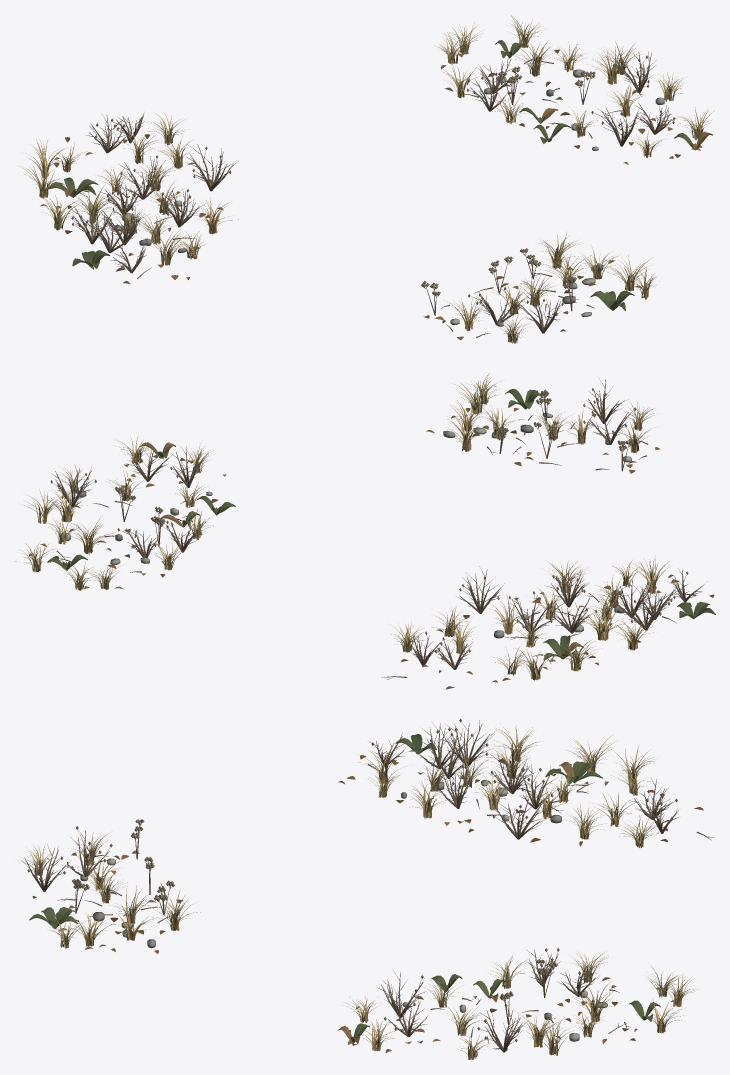
Rendered from planting.glb.
3 views of the same model, one above another, from view 1: azimuth 30°, elevation 25°; view 2: azimuth 150°, elevation 25°; view 3: azimuth 270°, elevation 25° (orthographic). The views are drawn at different scales.
Visible parts, largest first — view 1: Planting_Grass_Amber, Planting_Twigs, Planting_Grass_Umber, Planting_Leaf_Olive, Planting_Leaf_Tobacco, Planting_Seedheads, Planting_Stones; view 2: Planting_Grass_Amber, Planting_Twigs, Planting_Grass_Umber, Planting_Leaf_Olive, Planting_Leaf_Tobacco, Planting_Seedheads, Planting_Stones; view 3: Planting_Grass_Amber, Planting_Twigs, Planting_Grass_Umber, Planting_Leaf_Olive, Planting_Leaf_Tobacco, Planting_Seedheads, Planting_Stones.
Part boxes in pixels (left/top/right/bottom): Planting_Grass_Amber: left=18, top=21, right=711, bottom=342; Planting_Twigs: left=69, top=52, right=676, bottom=337; Planting_Grass_Umber: left=24, top=15, right=714, bottom=343; Planting_Leaf_Olive: left=48, top=40, right=694, bottom=311; Planting_Leaf_Tobacco: left=40, top=49, right=712, bottom=340; Planting_Seedheads: left=71, top=53, right=675, bottom=315; Planting_Stones: left=116, top=69, right=664, bottom=326; Planting_Grass_Amber: left=21, top=373, right=669, bottom=680; Planting_Twigs: left=51, top=378, right=707, bottom=679; Planting_Grass_Umber: left=15, top=375, right=715, bottom=679; Planting_Leaf_Olive: left=47, top=389, right=715, bottom=660; Planting_Leaf_Tobacco: left=29, top=408, right=714, bottom=689; Planting_Seedheads: left=50, top=388, right=688, bottom=660; Planting_Stones: left=62, top=413, right=631, bottom=638; Planting_Grass_Amber: left=26, top=727, right=696, bottom=1059; Planting_Twigs: left=21, top=720, right=714, bottom=1052; Planting_Grass_Umber: left=19, top=725, right=693, bottom=1059; Planting_Leaf_Olive: left=29, top=734, right=660, bottom=1037; Planting_Leaf_Tobacco: left=32, top=750, right=703, bottom=1052; Planting_Seedheads: left=27, top=718, right=677, bottom=1042; Planting_Stones: left=55, top=780, right=607, bottom=1056.
Size of the model in its own units: 11.43 by 0.7317 by 10.45.
